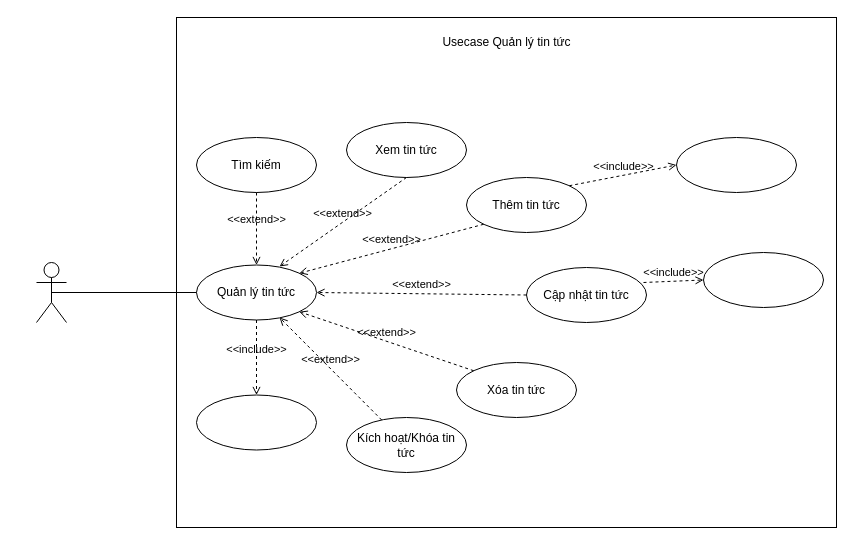
This 854x545 diagram has some shape labels left out. Here are the shapes that lost their labels. From the top down, the box of each, then its label:
(676, 136, 796, 192): Thêm các thông tin của tin tức
(36, 262, 66, 322): Quản trị viên
(702, 252, 824, 308): Cập nhật các thông tin của tin tức
(196, 394, 316, 450): Đăng nhập
